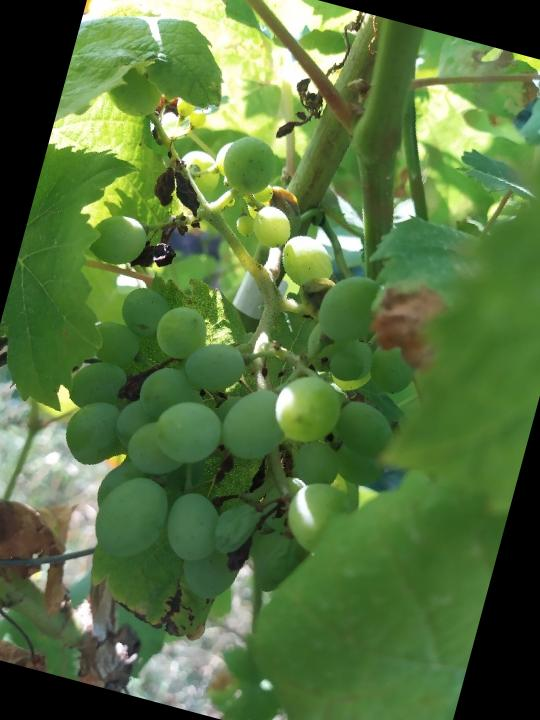grape: (9, 103, 464, 640)
